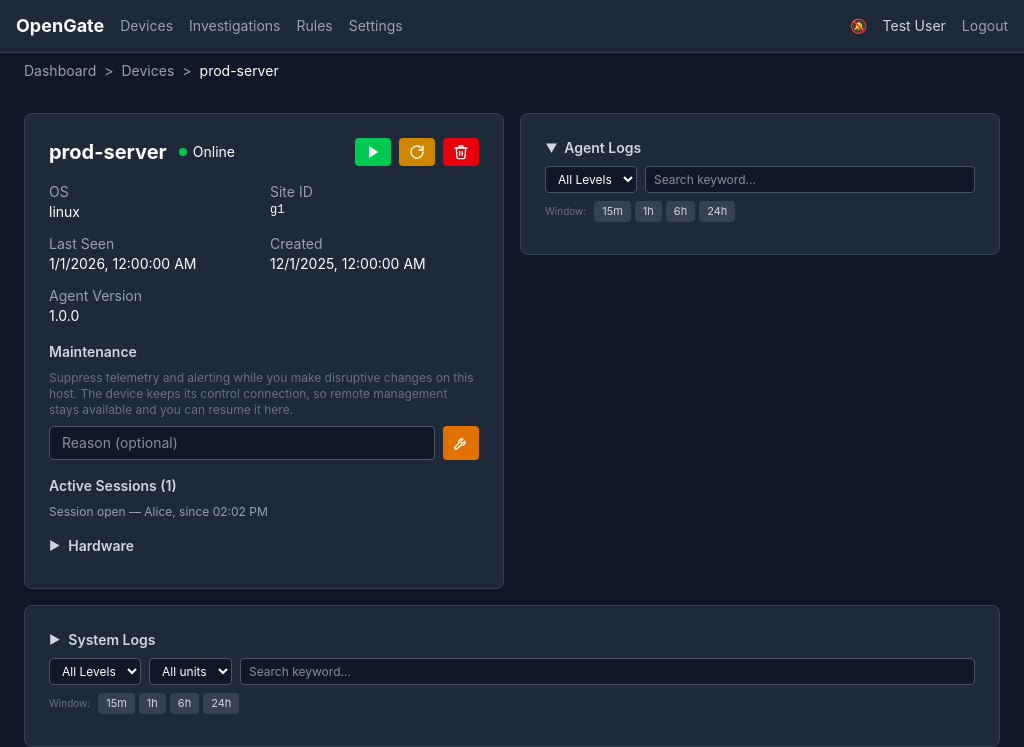
Test: Device Detail Flow (integration) › delete requires confirmation click for an admin
Click the button named "Delete Device".
click(461, 152)  # box [443,138,479,166]
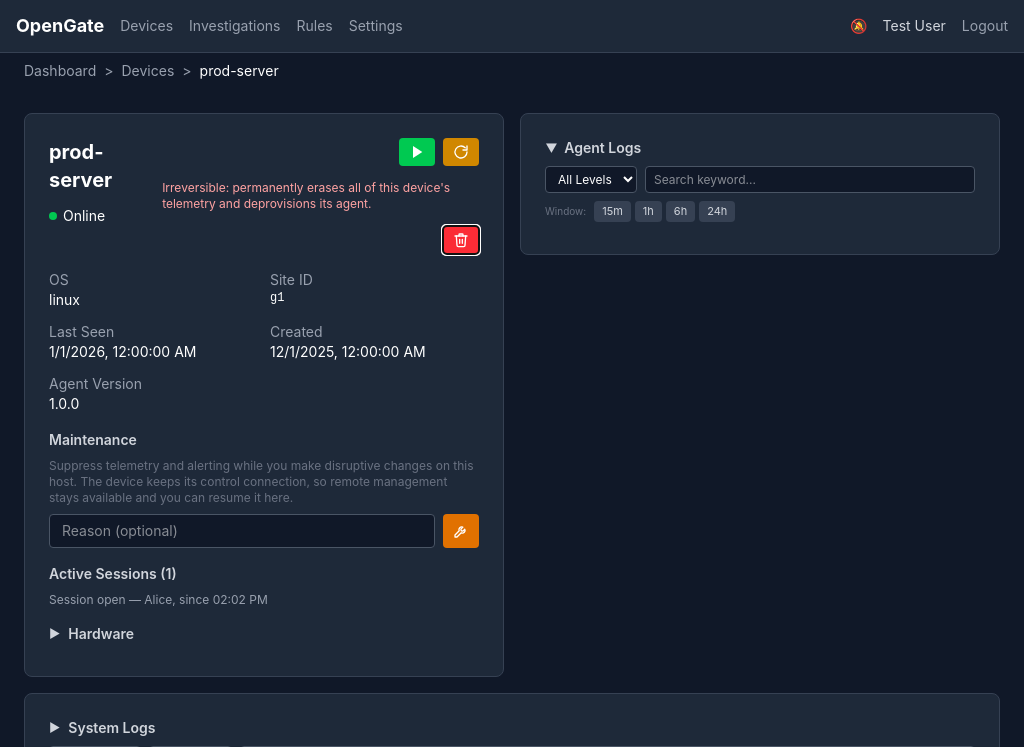
Expected: the button named "Confirm Delete" is shown, [443,226,479,254]
